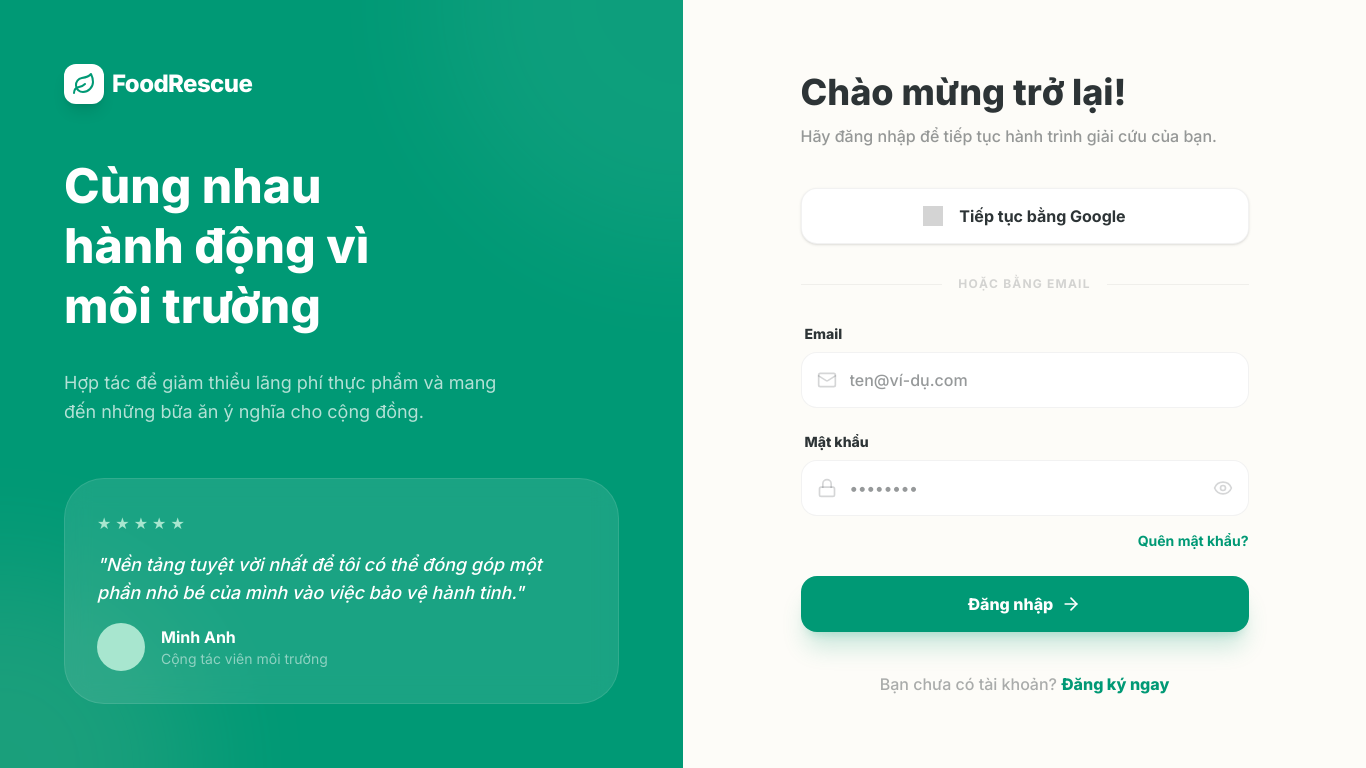
Test: LoginPage › shows error message for invalid credentials
In the field with placeholder "ten@ví-dụ.com": x=1024, y=380 [800,352,1248,408], type "wrong@example.com"
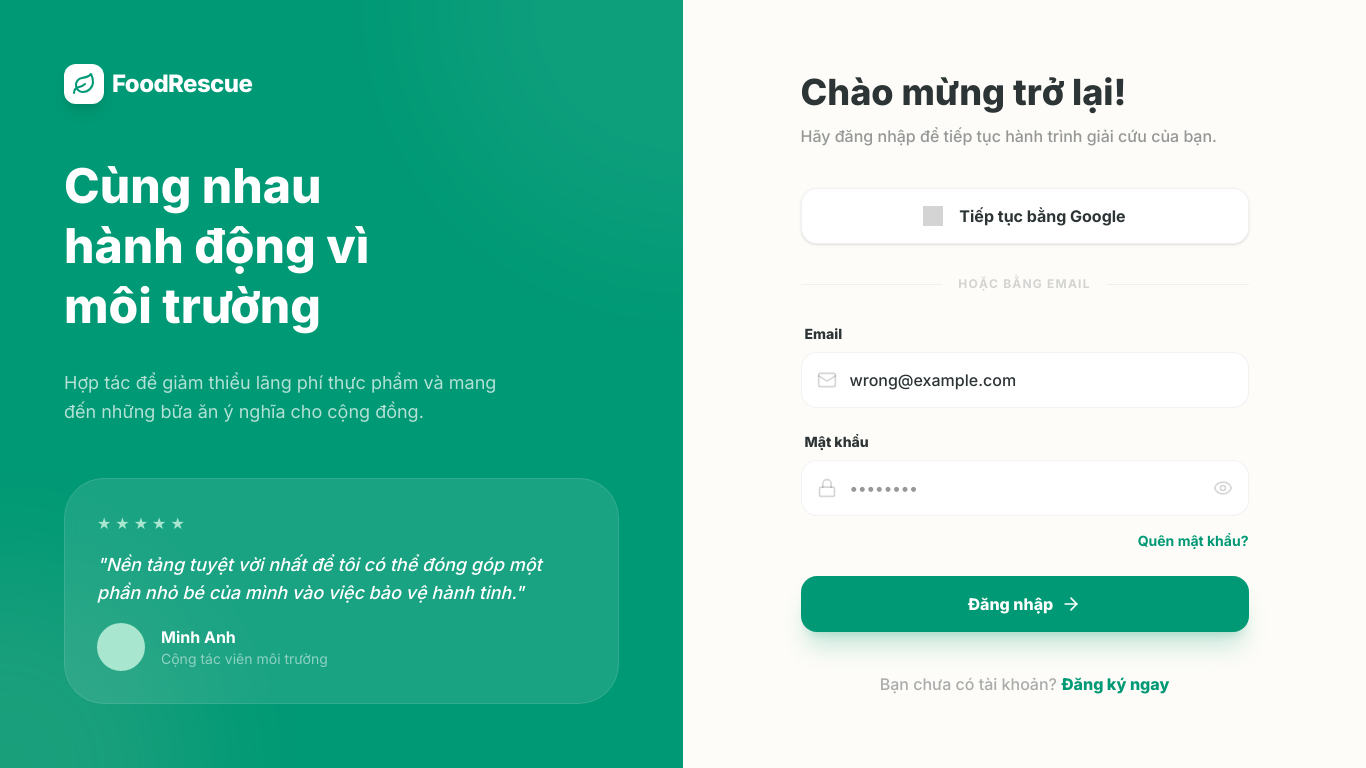
In the password field with placeholder "••••••••": x=1024, y=488 [800,460,1248,516], type "wrong-pass"
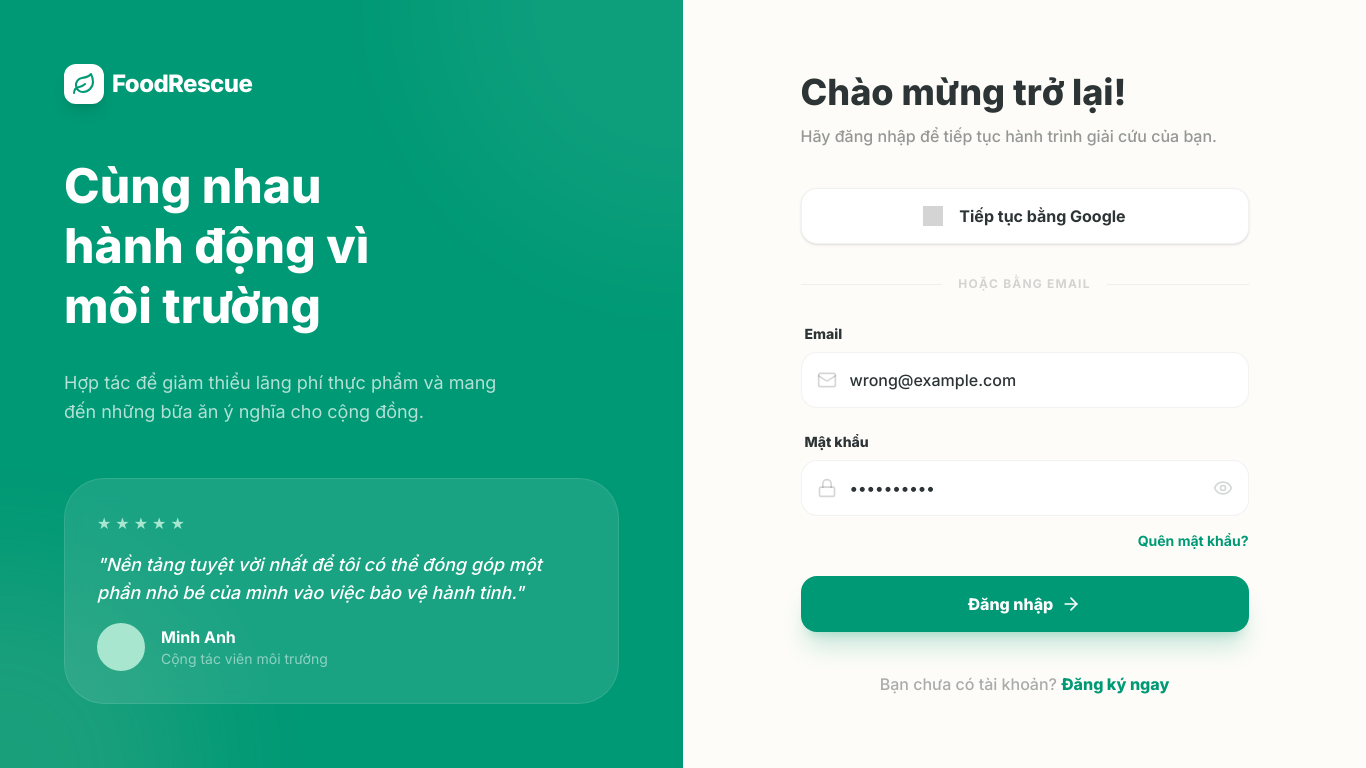
Click the button "Đăng nhập": x=1024, y=604 [800,576,1248,632]
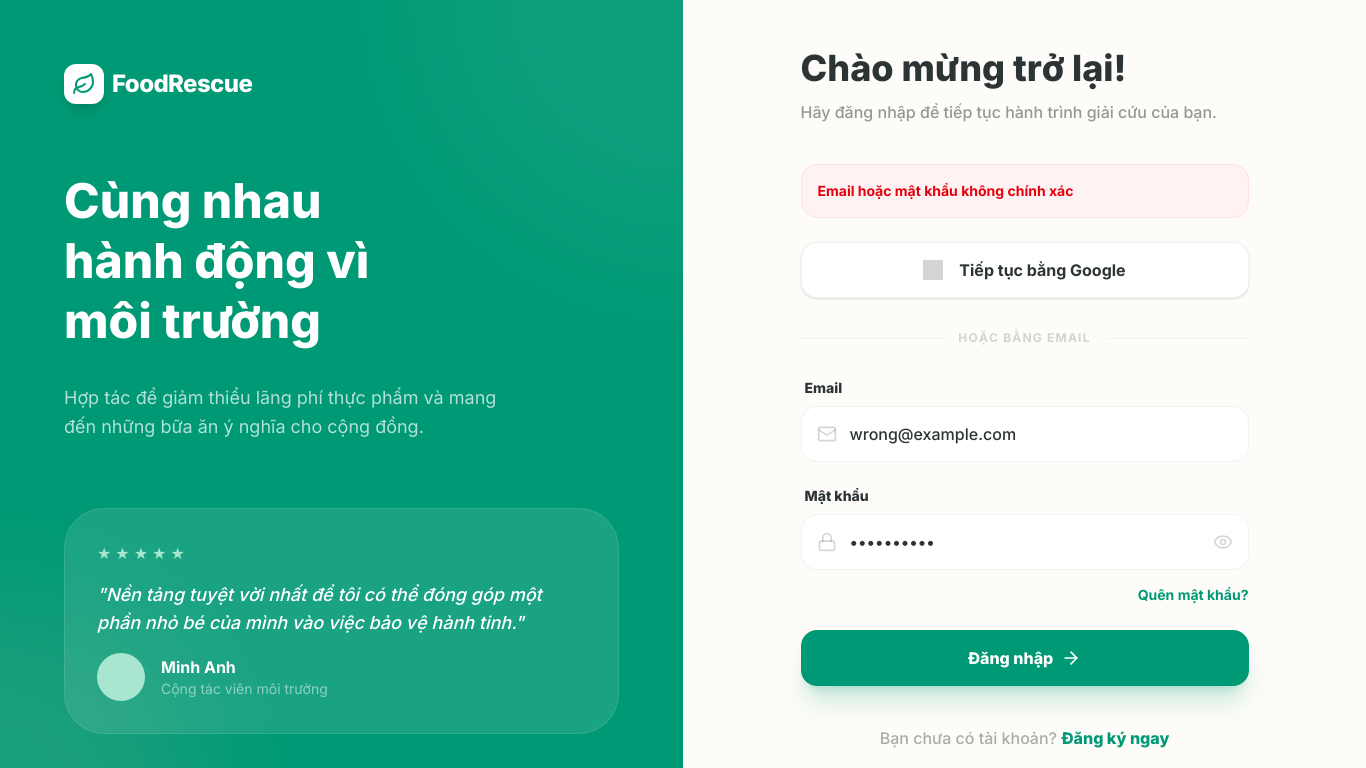
Expected: the text "Email hoặc mật khẩu không chính xác" is shown, [800,164,1248,218]
